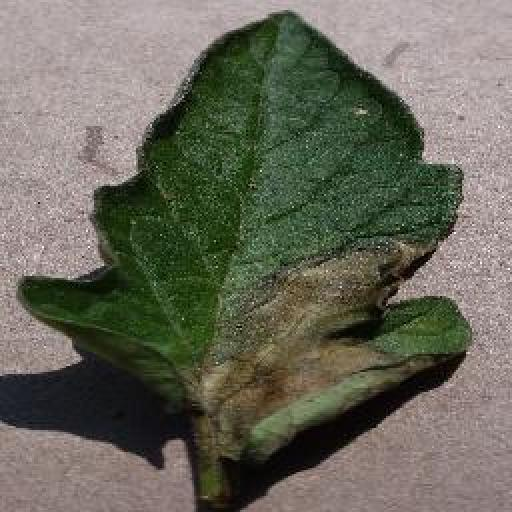disease_tomato: (15, 9, 472, 512)
